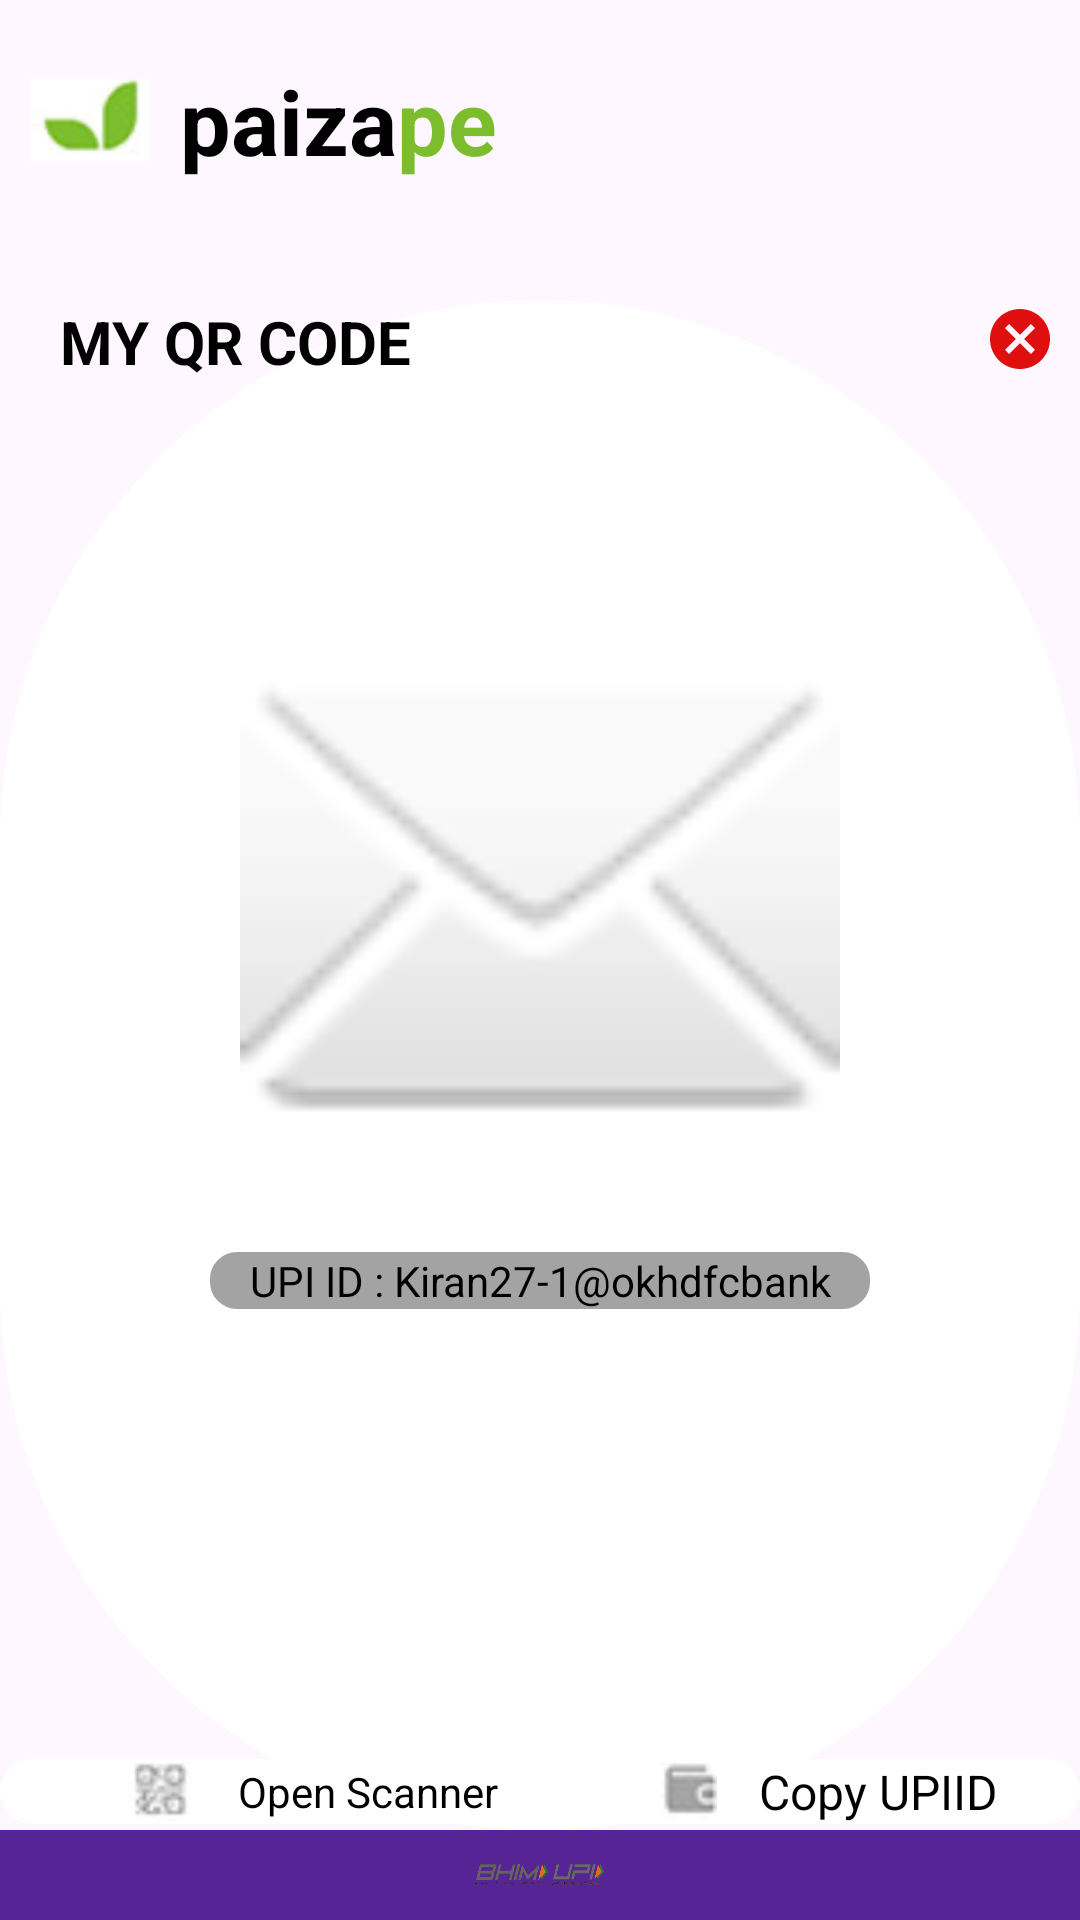

Screen size 1080px×1920px. Icon name, then its box in pixels as (x1, y1, x2, y2):
cancel: (990, 309, 1050, 369)
